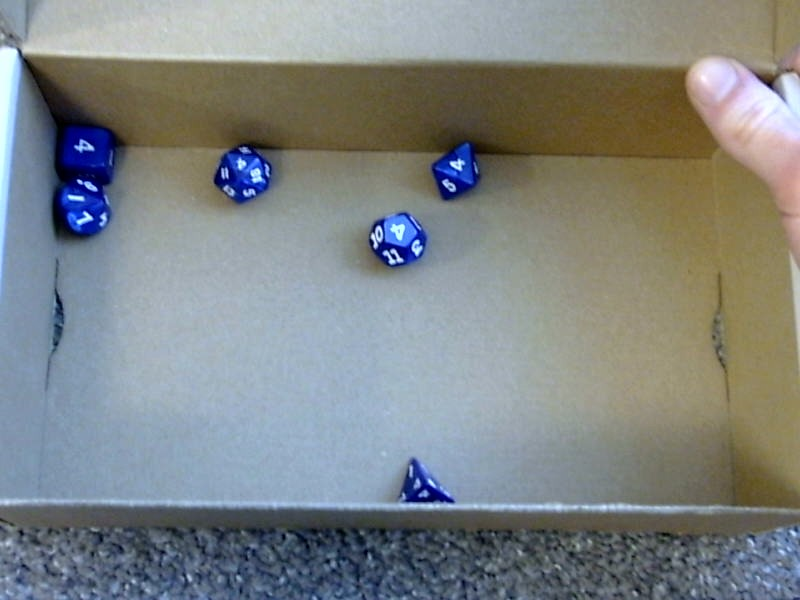d10 1: (51, 179, 118, 237)
d12 4: (364, 204, 428, 271)
d20 4: (205, 138, 273, 207)
d4 4: (392, 452, 458, 512)
d6 4: (51, 120, 122, 180)
d8 4: (422, 136, 488, 201)
